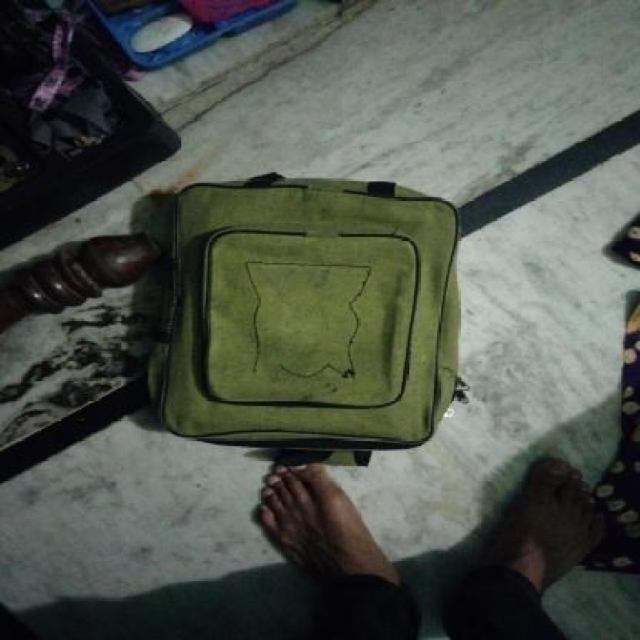backpack: (141, 169, 474, 465)
